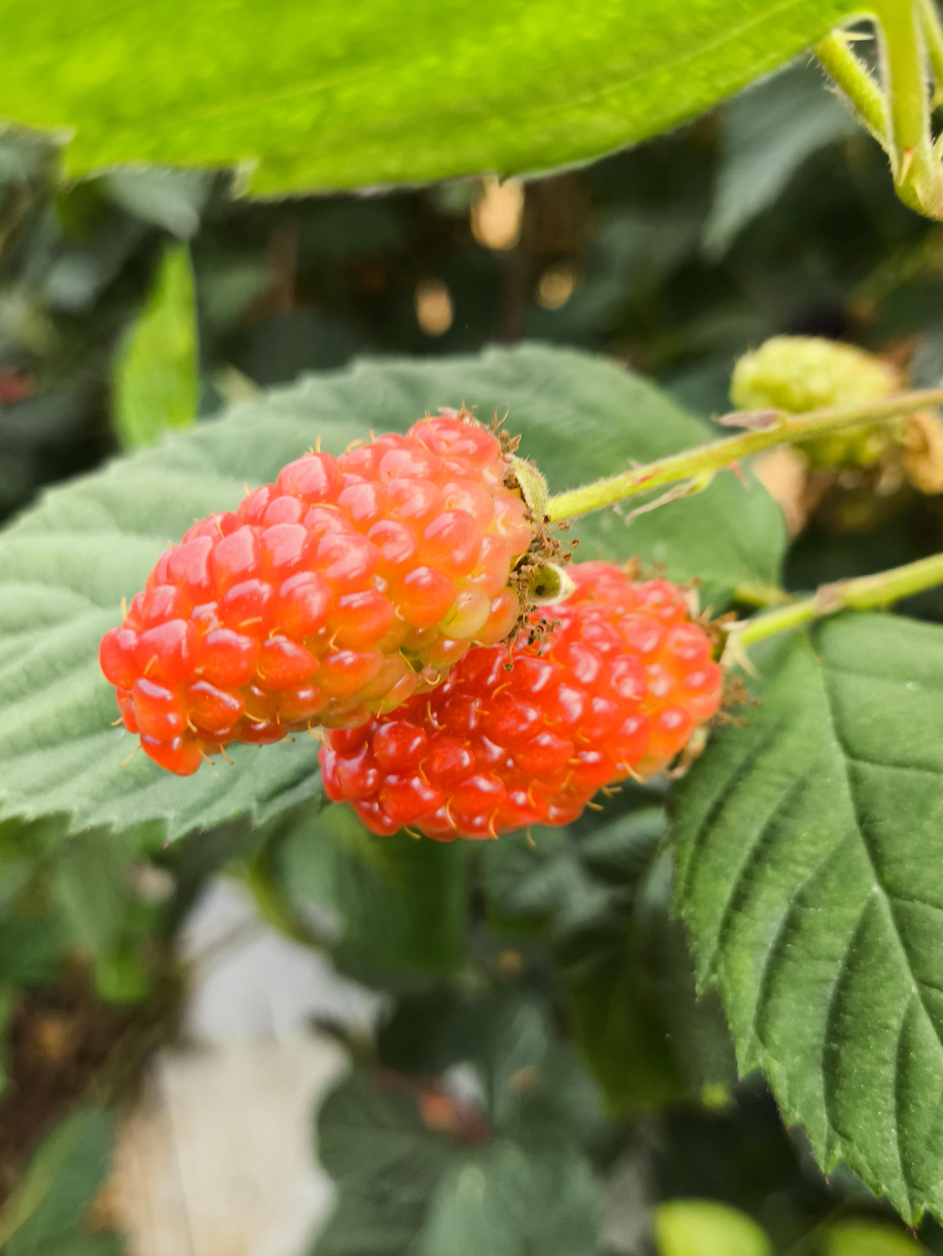naranja: (100, 411, 534, 775), (320, 563, 722, 841)
